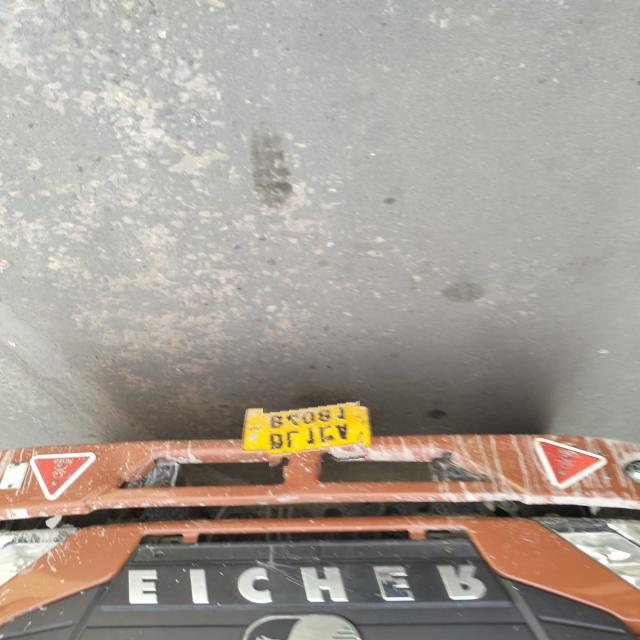License-plate: (264, 394, 363, 465)
